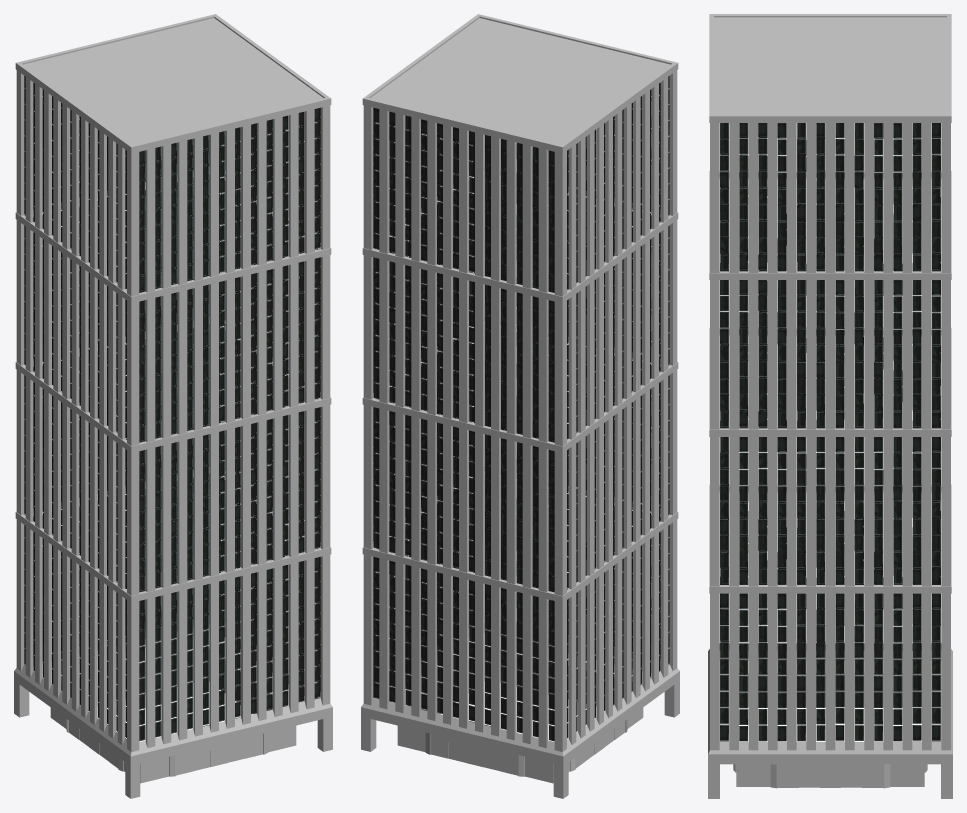
3 renders of one model, left to right at view 1: azimuth 30°, elevation 25°; view 2: azimuth 150°, elevation 25°; view 3: azimuth 270°, elevation 25°, orthographic. The views are drawn at different scales.
Parts seen in each view (by area): view 1: EC-033; view 2: EC-033; view 3: EC-033.
Boxes of the visible parts, <box> form: EC-033: <box>14,14,332,798</box>; EC-033: <box>361,14,679,798</box>; EC-033: <box>708,14,952,798</box>.
Size of what is drawn, in the model's own units: 32.51 by 100 by 32.51.
